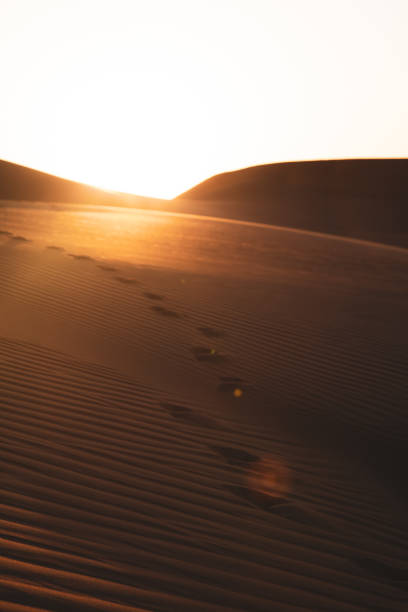human_foot_print: (161, 402, 221, 428), (211, 445, 258, 466), (217, 376, 252, 397), (191, 346, 227, 363), (151, 305, 180, 317), (197, 326, 224, 338), (68, 253, 94, 261), (114, 276, 138, 284), (143, 291, 163, 300), (98, 264, 116, 271), (11, 235, 31, 241), (46, 245, 64, 251)
